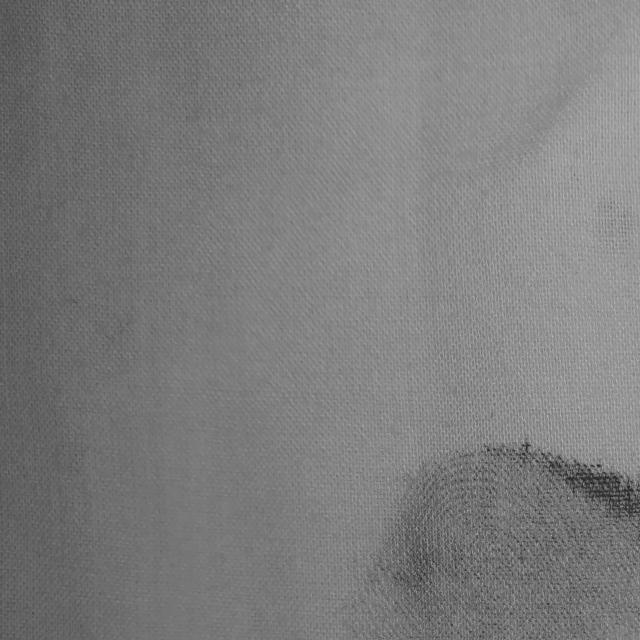Stain: (350, 445, 640, 639)
